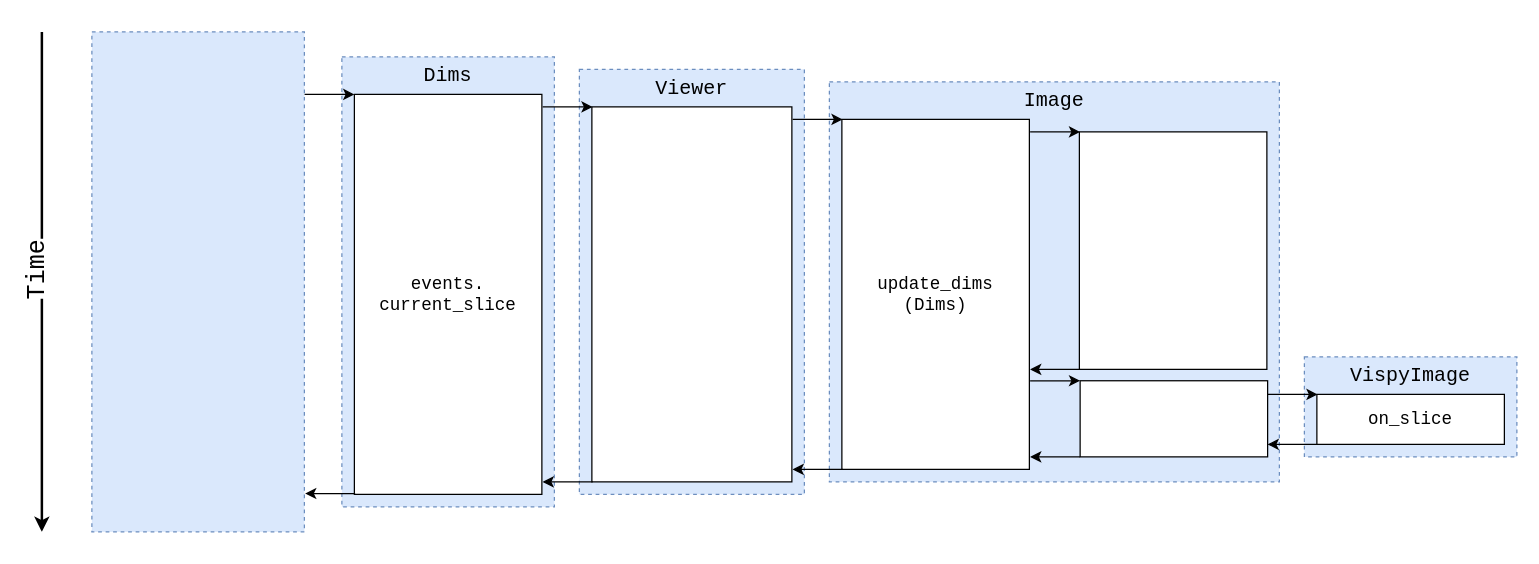
The diagram is 1539 pixels wide and 564 high, and some of its shapes have lost their labels. Each missing label, with the centre of its shape:
"events.slice" goes at [1173,418].
"Qt main event loop" goes at [197,281].
"slice_layers" goes at [691,294].
"update_slice" goes at [1172,250].
